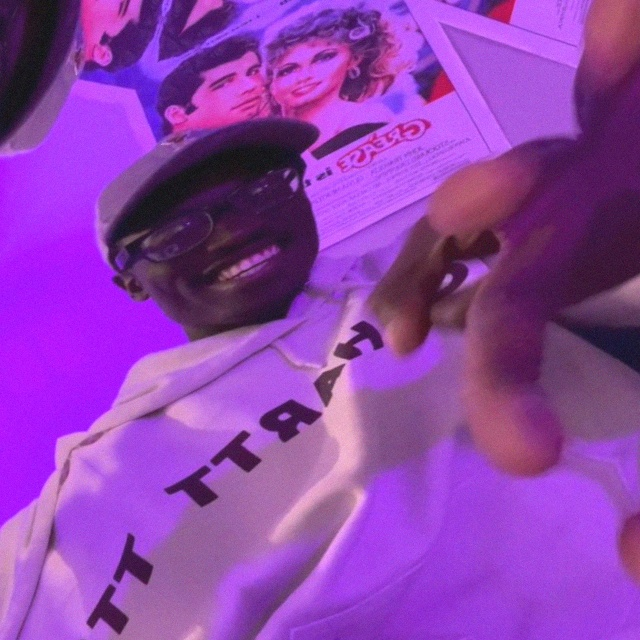Scissors: (0, 0, 103, 23)
